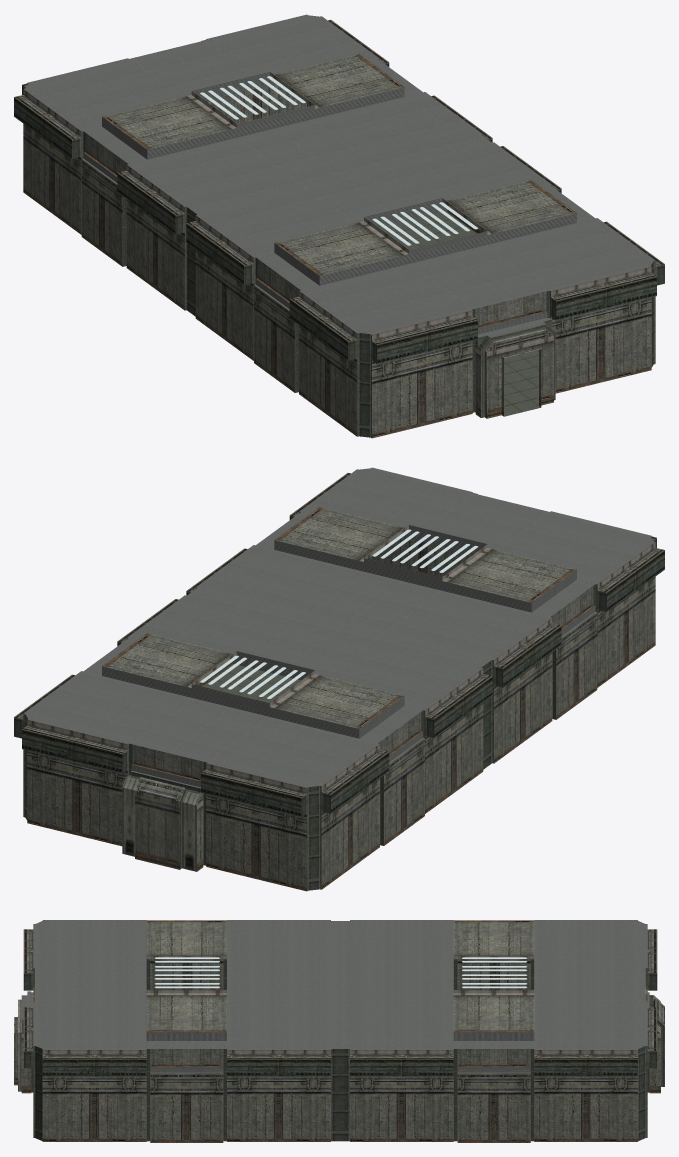
File: poi_all_impl_bunker_crimelord_retreat_s01_r18_quarters04_mesh_r18.fbx
The picture shows the model from 3 angles, top to bottom: view 1: azimuth 30°, elevation 25°; view 2: azimuth 150°, elevation 25°; view 3: azimuth 270°, elevation 25°; orthographic projection. The views are drawn at different scales.
Parts seen in each view (by area): view 1: mesh_node; view 2: mesh_node; view 3: mesh_node.
Boxes of the visible parts, x1,y1,x2,y2 form: mesh_node: (14,14,664,438); mesh_node: (14,467,664,891); mesh_node: (14,920,664,1142).
Bounding box in the file's own units: 17 × 6 × 33.9.
